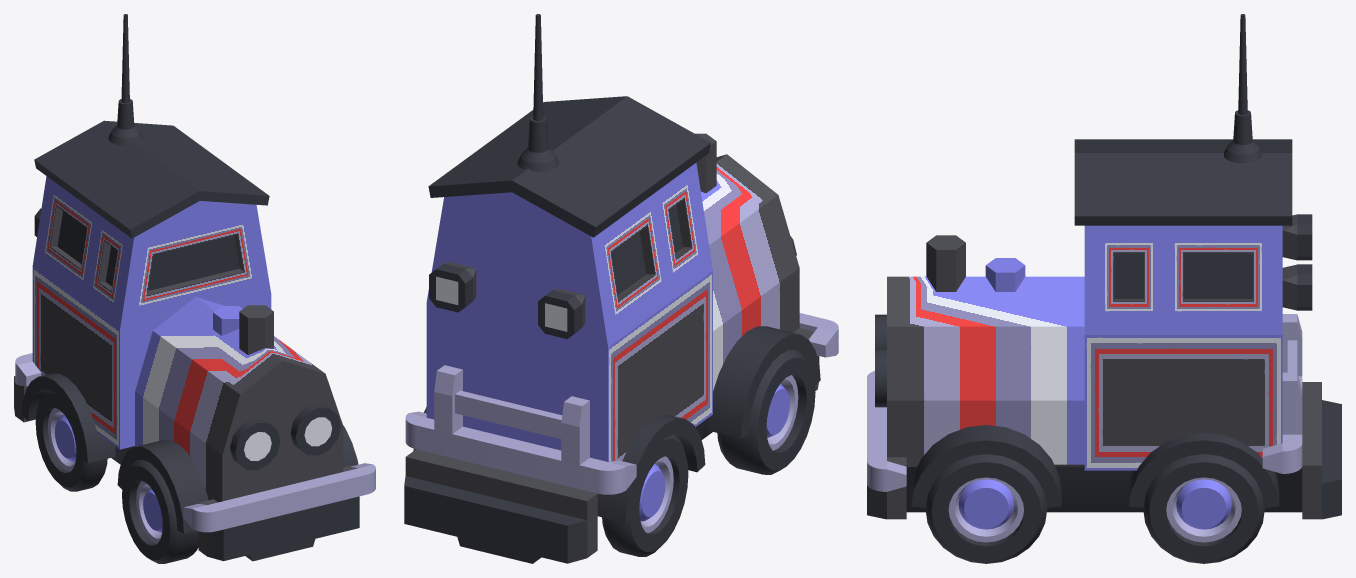
Rendered from train_car-01_blue.fbx.
3 renders of one model, left to right at view 1: azimuth 30°, elevation 25°; view 2: azimuth 150°, elevation 25°; view 3: azimuth 270°, elevation 25°, orthographic. The views are drawn at different scales.
Visible parts, largest first — view 1: diesel_cabin_roof, steam_engine, body_decoration, wheel_classic (×2), wheel_coverStandard (×2), fuel_thin_front, bumper, detail_light (×2), detail_antenna, bumper_large; view 2: diesel_cabin_roof, body_decoration, fuel_thin_front, steam_engine, bumper_large, wheel_classic (×2), wheel_coverStandard (×2), detail_light_square (×2), detail_antenna, bumper; view 3: diesel_cabin_roof, steam_engine, body_decoration, wheel_classic (×2), wheel_coverStandard (×2), fuel_thin_front (×2), bumper_large, fuel_thin, detail_light_square (×2), bumper, detail_antenna, detail_light.
Boxes of the visible parts, bbox=[...] form: diesel_cabin_roof: bbox=[32, 120, 270, 329]; steam_engine: bbox=[135, 297, 343, 502]; body_decoration: bbox=[32, 266, 271, 449]; wheel_classic (×2): bbox=[35, 389, 198, 563]; wheel_coverStandard (×2): bbox=[21, 373, 208, 533]; fuel_thin_front: bbox=[198, 466, 359, 561]; bumper: bbox=[183, 463, 375, 532]; detail_light (×2): bbox=[230, 404, 340, 470]; detail_antenna: bbox=[108, 14, 142, 145]; bumper_large: bbox=[15, 353, 41, 386]; diesel_cabin_roof: bbox=[426, 96, 712, 347]; body_decoration: bbox=[426, 271, 712, 461]; fuel_thin_front: bbox=[404, 449, 597, 563]; steam_engine: bbox=[695, 133, 799, 390]; bumper_large: bbox=[405, 365, 636, 494]; wheel_classic (×2): bbox=[602, 350, 815, 556]; wheel_coverStandard (×2): bbox=[597, 326, 820, 522]; detail_light_square (×2): bbox=[429, 262, 585, 338]; detail_antenna: bbox=[517, 14, 559, 172]; bumper: bbox=[799, 313, 838, 357]; diesel_cabin_roof: bbox=[1074, 139, 1292, 334]; steam_engine: bbox=[887, 235, 1084, 464]; body_decoration: bbox=[1084, 335, 1282, 470]; wheel_classic (×2): bbox=[925, 454, 1264, 563]; wheel_coverStandard (×2): bbox=[911, 425, 1279, 507]; fuel_thin_front (×2): bbox=[867, 382, 1341, 519]; bumper_large: bbox=[1262, 314, 1302, 473]; fuel_thin: bbox=[1047, 464, 1143, 512]; detail_light_square (×2): bbox=[1282, 214, 1312, 310]; bumper: bbox=[867, 371, 906, 491]; detail_antenna: bbox=[1224, 14, 1261, 163]; detail_light: bbox=[875, 348, 886, 407].
Size of the model in its own units: 124 by 279 by 240.
Materials: 1 (1 with a texture image).
